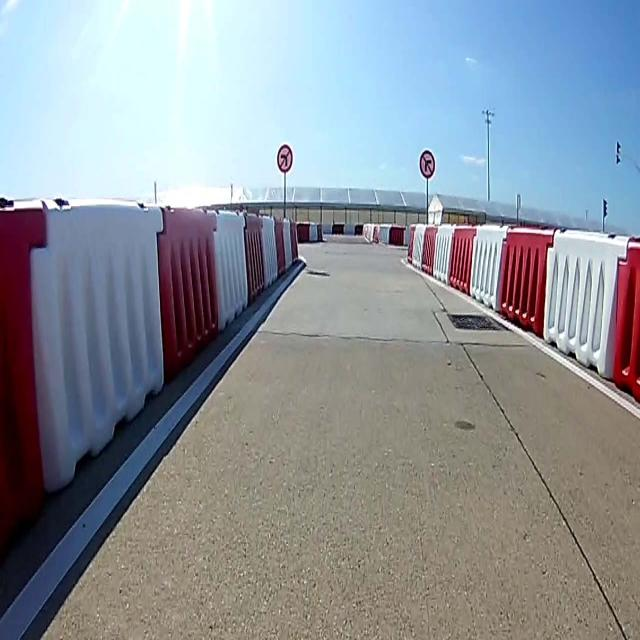sagadonulmez: (419, 148, 435, 180)
soladonulmez: (278, 144, 292, 172)
